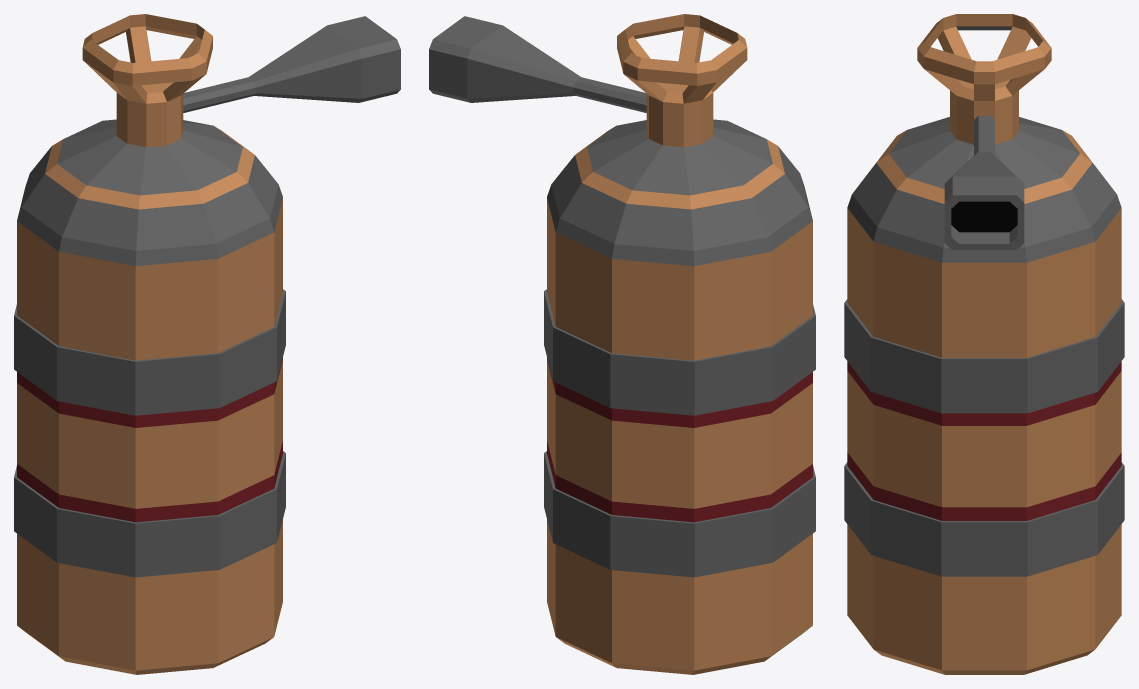
Rendered from extinguisher.fbx.
3 views of the same model, side by side, from view 1: azimuth 30°, elevation 25°; view 2: azimuth 150°, elevation 25°; view 3: azimuth 270°, elevation 25° (orthographic).
Visible parts, largest first — view 1: Cylinder; view 2: Cylinder; view 3: Cylinder.
Boxes of the visible parts, x1,y1,x2,y2 form: Cylinder: [14, 14, 400, 674]; Cylinder: [429, 14, 815, 674]; Cylinder: [844, 14, 1124, 674].
Bounding box in the file's own units: 293 × 473 × 204.
